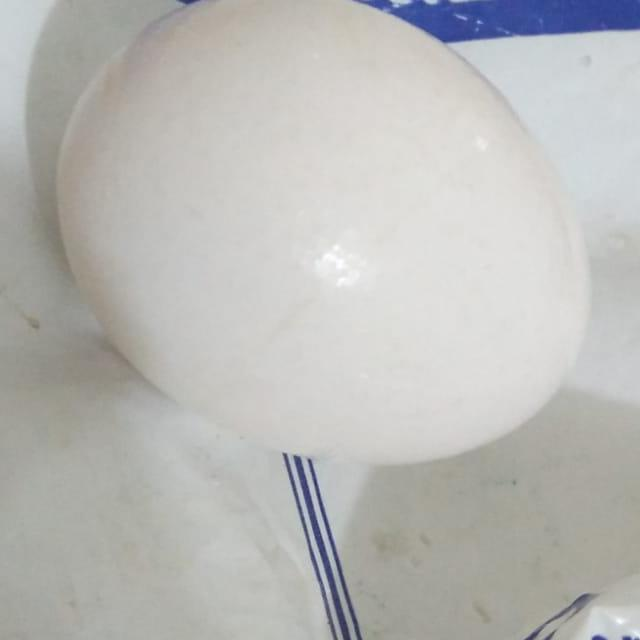egg: (50, 0, 594, 469)
